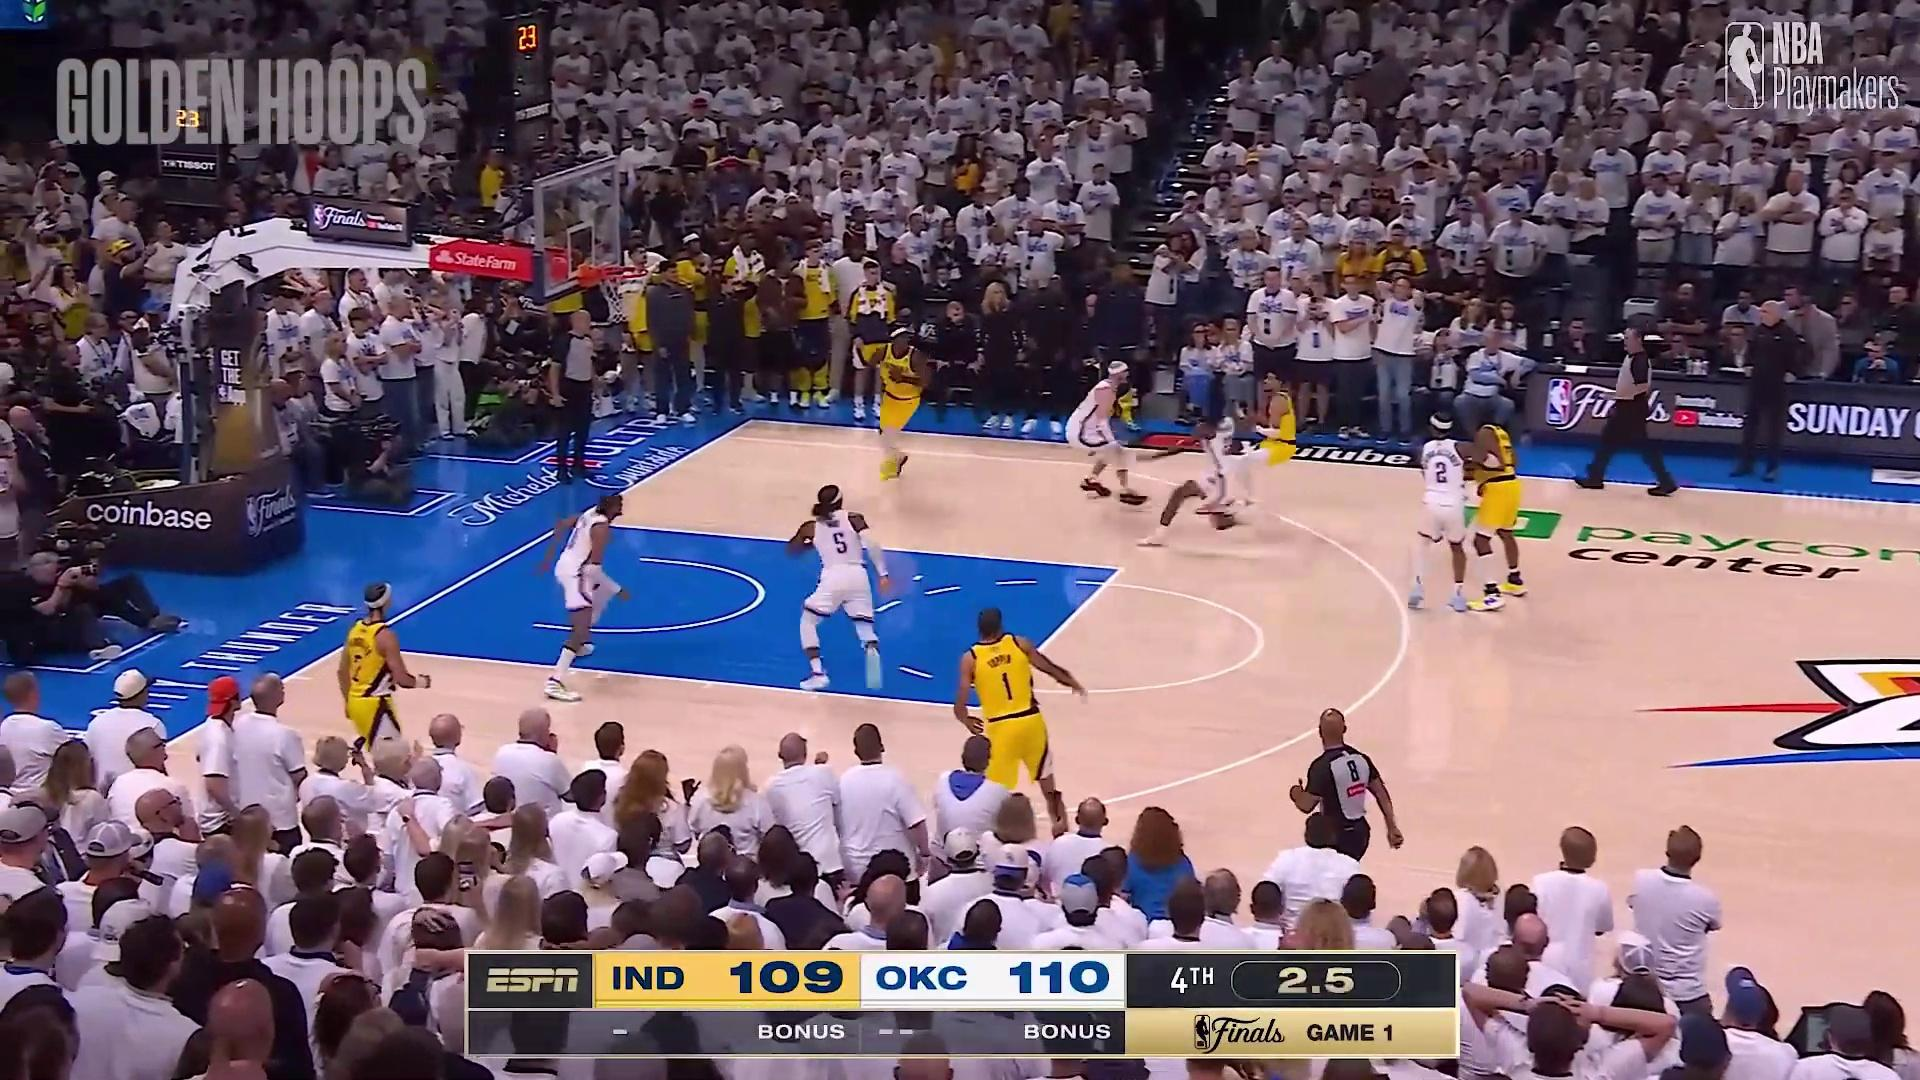hoop: (597, 260, 651, 323)
